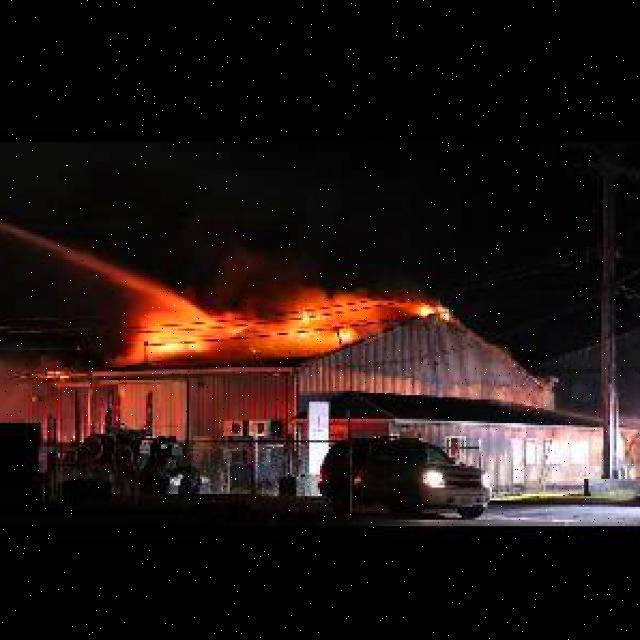fire: (99, 264, 462, 361)
smoke: (0, 346, 67, 382)
